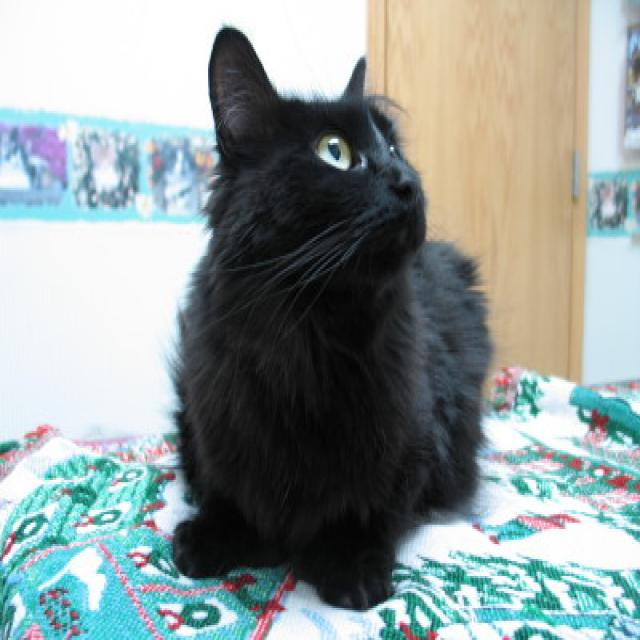Cats: (166, 24, 494, 610)
